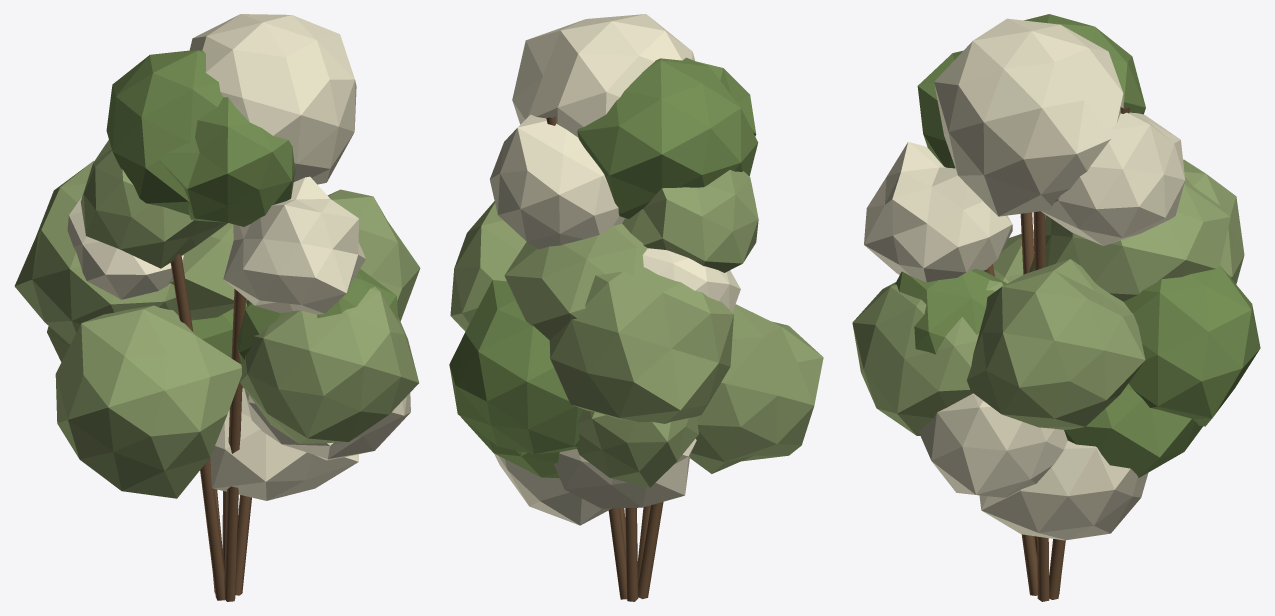
The model's file is fagyal-argenteum.glb.
The picture shows the model from 3 angles, left to right: view 1: azimuth 30°, elevation 25°; view 2: azimuth 150°, elevation 25°; view 3: azimuth 270°, elevation 25°; orthographic projection. The views are drawn at different scales.
Parts seen in each view (by area): view 1: korona-8, korona-17, korona-4, korona-7, korona-18, korona-6, korona-5, korona-14, korona-10, korona-20, korona-1, korona-11 (+6 smaller); view 2: korona-5, korona-18, korona-12, korona-8, korona-4, korona-13, korona-14, korona-11, korona-2, korona-20, korona-19, korona-10 (+6 smaller); view 3: korona-4, korona-20, korona-12, korona-7, korona-13, korona-17, korona-11, korona-16, korona-10, korona-3, korona-9, korona-18 (+7 smaller).
Part boxes in pixels (box(x1,y1,x2,y2)): korona-8: box(55, 305, 241, 498); korona-17: box(240, 287, 419, 443); korona-4: box(189, 14, 356, 184); korona-7: box(223, 176, 365, 314); korona-18: box(106, 50, 223, 214); korona-6: box(158, 97, 295, 226); korona-5: box(14, 161, 178, 344); korona-14: box(80, 140, 227, 268); korona-10: box(210, 388, 358, 500); korona-20: box(246, 189, 420, 321); korona-1: box(67, 196, 183, 299); korona-11: box(170, 223, 247, 320); korona-5: box(549, 267, 733, 423); korona-18: box(577, 57, 758, 218); korona-12: box(449, 280, 582, 454); korona-8: box(690, 304, 823, 473); korona-4: box(512, 14, 694, 137); korona-13: box(489, 114, 624, 249); korona-14: box(622, 170, 758, 272); korona-11: box(504, 223, 647, 340); korona-2: box(577, 409, 698, 487); korona-20: box(450, 201, 526, 331); korona-19: box(554, 439, 696, 508); korona-10: box(494, 454, 611, 525); korona-4: box(934, 18, 1123, 216); korona-20: box(966, 259, 1145, 429); korona-12: box(1124, 265, 1260, 426); korona-7: box(864, 142, 1012, 282); korona-13: box(1041, 112, 1185, 245); korona-17: box(852, 280, 1003, 435); korona-11: box(1029, 177, 1230, 301); korona-16: box(918, 393, 1067, 497); korona-10: box(979, 440, 1148, 540); korona-3: box(1064, 383, 1202, 477); korona-9: box(895, 269, 1007, 354); korona-18: box(1024, 14, 1145, 114).
Size of the model in its own units: 1.29 by 2 by 1.28.
